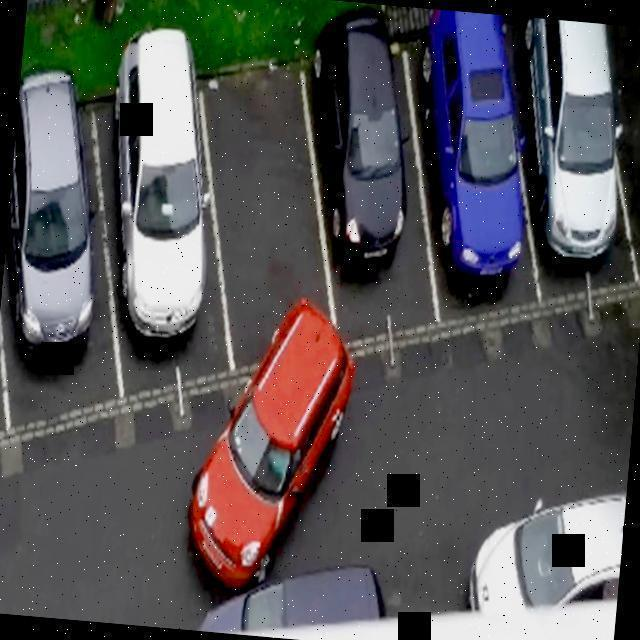space-empty: (184, 47, 351, 377)
space-occupied: (71, 62, 246, 390), (382, 7, 545, 342), (292, 26, 450, 371), (490, 16, 640, 331), (0, 82, 133, 416)
